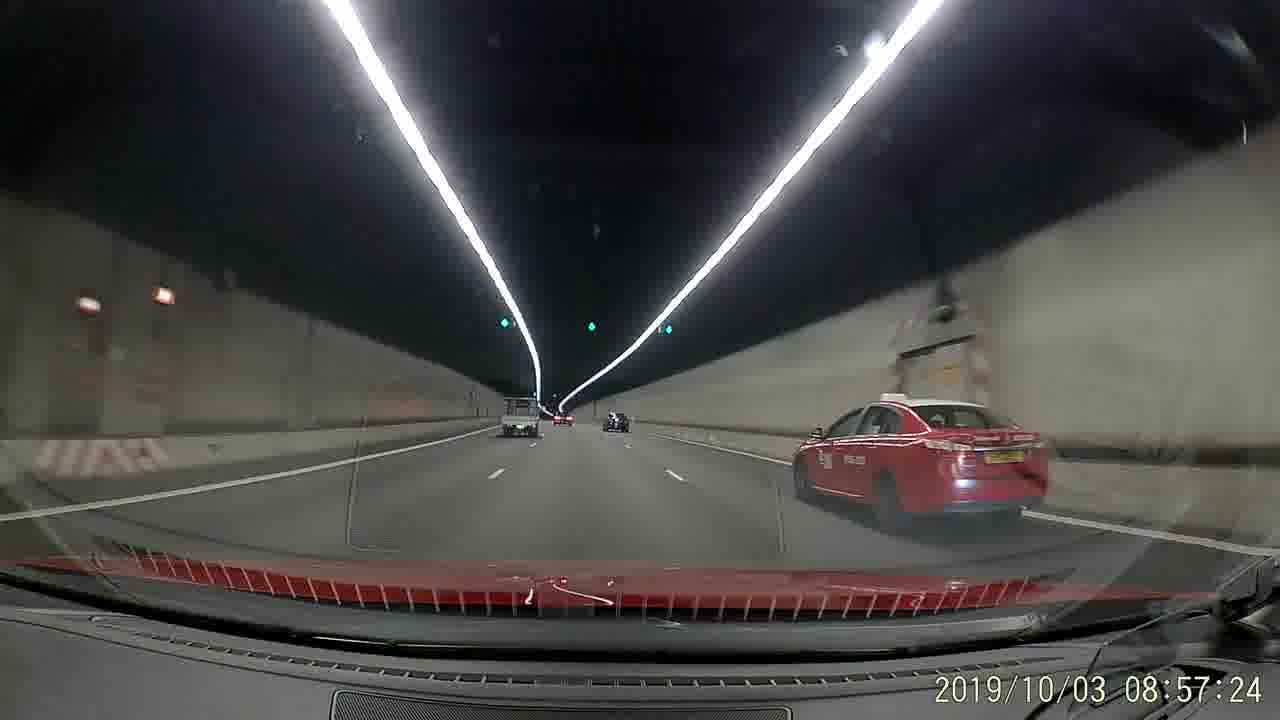car: (790, 391, 1048, 533), (602, 409, 629, 434), (550, 409, 574, 427)
